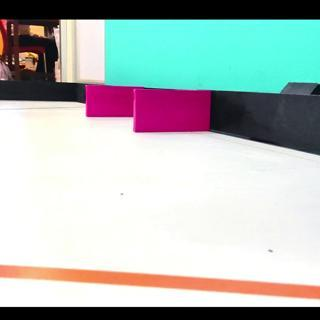xparking: (137, 91, 209, 132), (87, 87, 133, 117)
